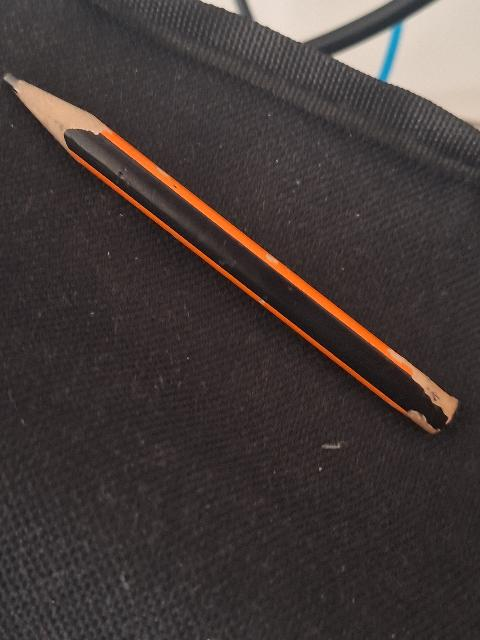writing_tool: (2, 72, 461, 438)
